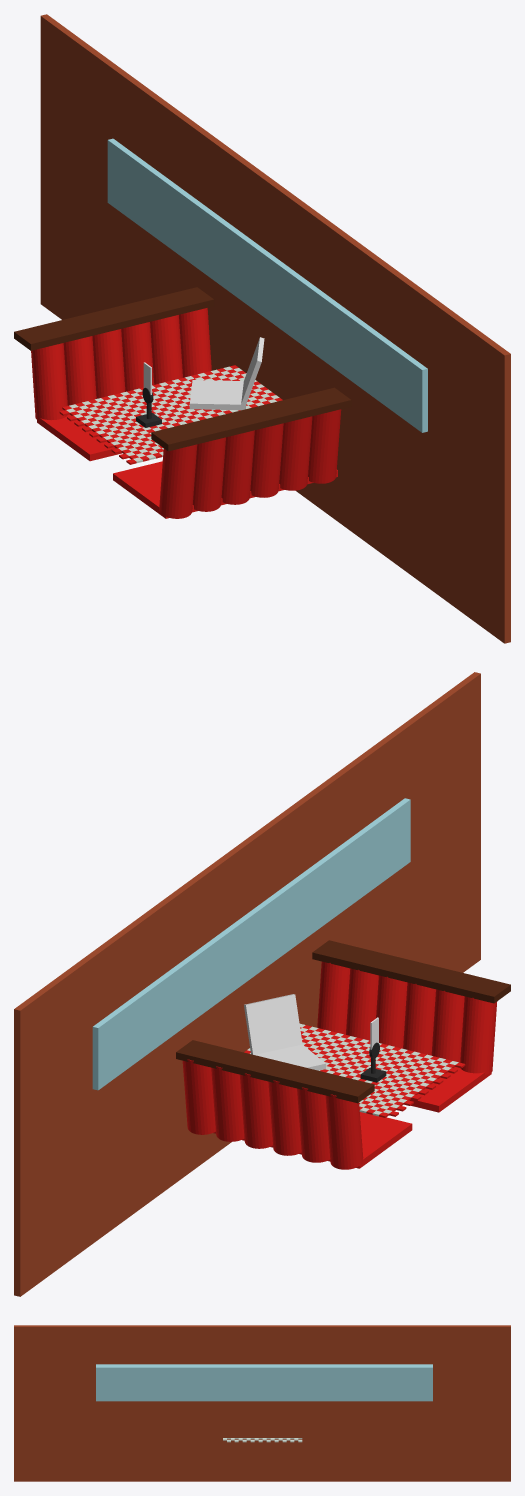
Rendered from PizzaPlace.fbx.
3 renders of one model, top to bottom at view 1: azimuth 30°, elevation 25°; view 2: azimuth 150°, elevation 25°; view 3: azimuth 270°, elevation 25°, orthographic. The views are drawn at different scales.
Parts seen in each view (by area): view 1: Cube.005, Cube.010, Cylinder.002, Cylinder.003, Cube.012, Cube.011, Cube.003, Cube, Cube.001, Cube.002, Cube.008, Cube.013 (+1 smaller); view 2: Cube.005, Cube.010, Cylinder.003, Cylinder.002, Cube.011, Cube.012, Cube.014, Cube, Cube.003, Cube.002, Cube.001, Cube.009 (+2 smaller); view 3: Cube.005, Cube.010, Cube.001.
Boxes of the visible parts, x1,y1,x2,y2 form: Cube.005: (40,14,510,643); Cube.010: (107,138,427,432); Cylinder.002: (159,409,341,518); Cylinder.003: (31,308,211,420); Cube.012: (14,287,214,350); Cube.011: (151,387,351,451); Cube.003: (62,365,282,459); Cube: (59,369,273,464); Cube.001: (69,366,276,457); Cube.002: (66,368,279,462); Cube.008: (113,461,337,518); Cube.013: (189,380,246,410); Cube.005: (14,672,480,1296); Cube.010: (92,798,410,1090); Cylinder.003: (182,1059,363,1169); Cylinder.002: (317,961,497,1074); Cube.011: (312,940,510,1003); Cube.012: (176,1040,374,1103); Cube.014: (244,994,302,1054); Cube: (300,1025,465,1116); Cube.003: (244,1027,455,1117); Cube.002: (247,1023,458,1113); Cube.001: (250,1028,448,1116); Cube.009: (213,1112,412,1168); Cube.005: (14,1325,510,1481); Cube.010: (96,1364,432,1401); Cube.001: (227,1438,302,1442).
Size of the model in its own units: 63218 by 85698 by 250020.
